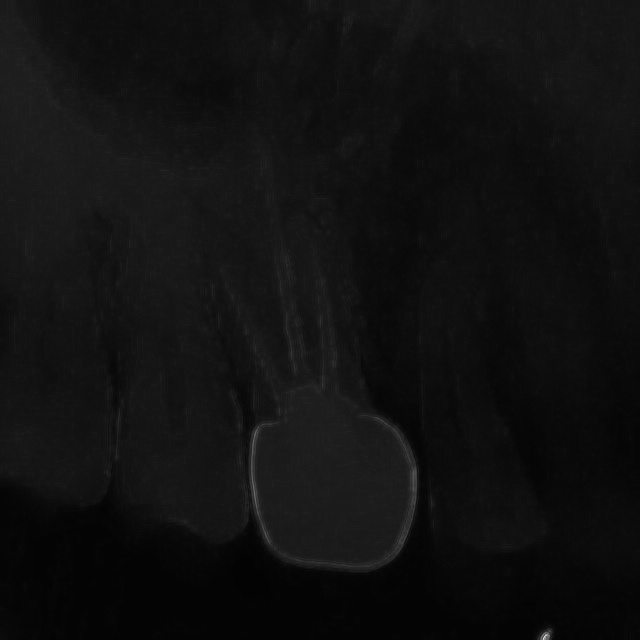Class 0- No endodontic treatment: (153, 77, 453, 595)
cavity: (392, 196, 574, 590)
